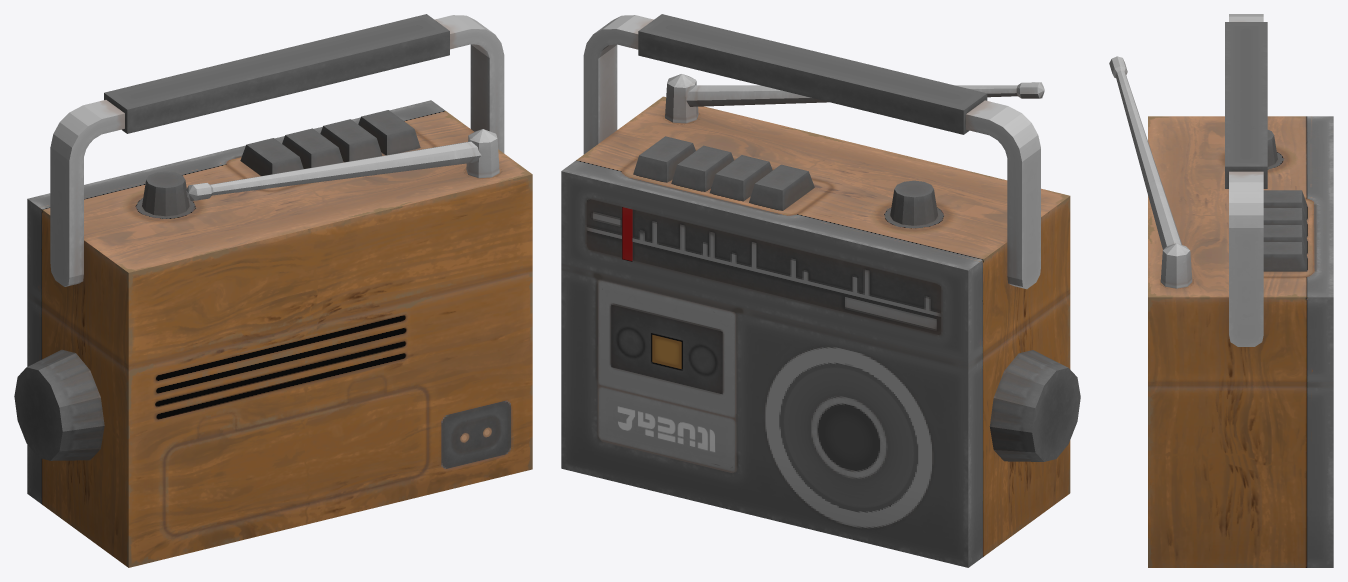
The model's file is P_SoundBox_005_S1_M01.obj.
3 views of the same model, side by side, from view 1: azimuth 30°, elevation 25°; view 2: azimuth 150°, elevation 25°; view 3: azimuth 270°, elevation 25° (orthographic). The views are drawn at different scales.
Size of the model in its own units: 0.6891 by 0.6004 by 0.3189.
Materials: 1 (1 with a texture image).
